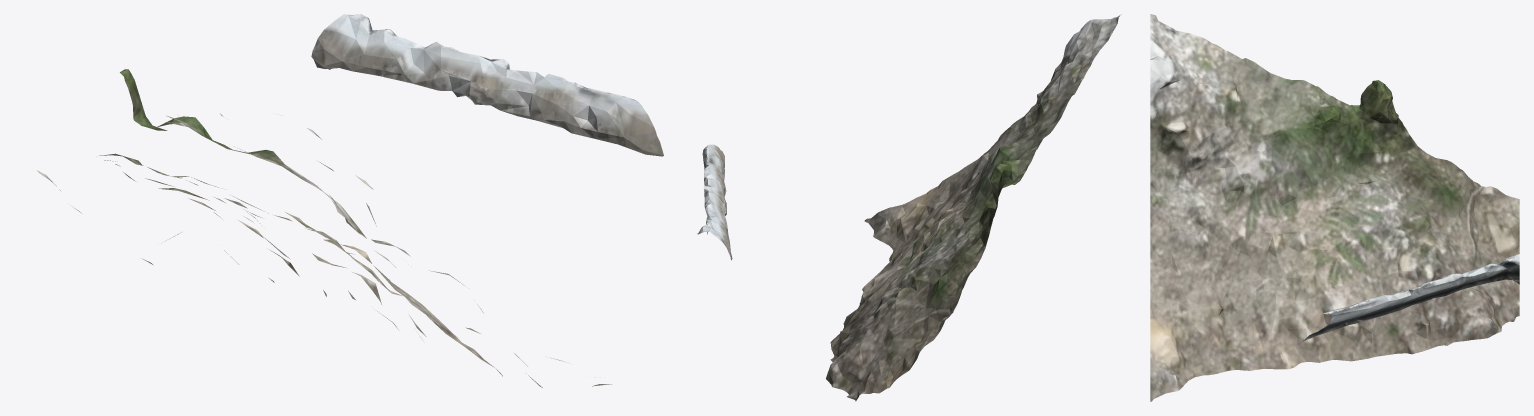
3 views of the same model, side by side, from view 1: azimuth 30°, elevation 25°; view 2: azimuth 150°, elevation 25°; view 3: azimuth 270°, elevation 25° (orthographic). The views are drawn at different scales.
Bounding box in the file's own units: 2.95 × 2.33 × 2.95.
2 materials, 2 textured.
